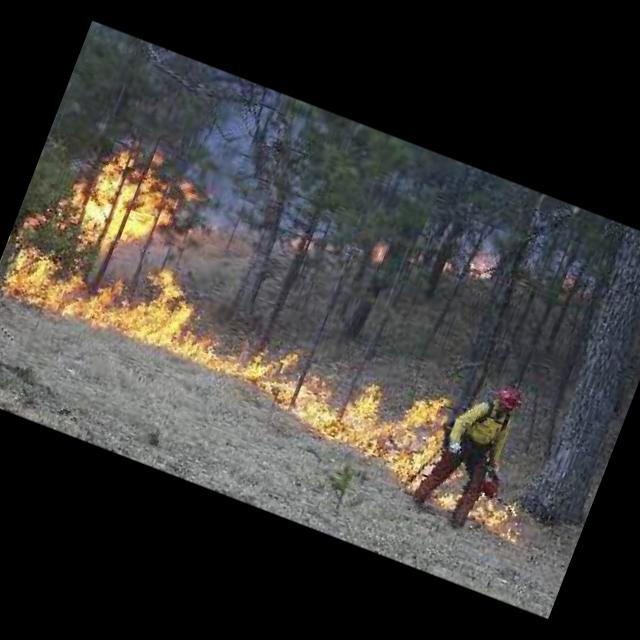fire: (161, 284, 458, 506), (0, 102, 246, 359), (462, 484, 536, 554), (440, 242, 498, 286), (367, 238, 393, 268), (288, 231, 316, 258)
